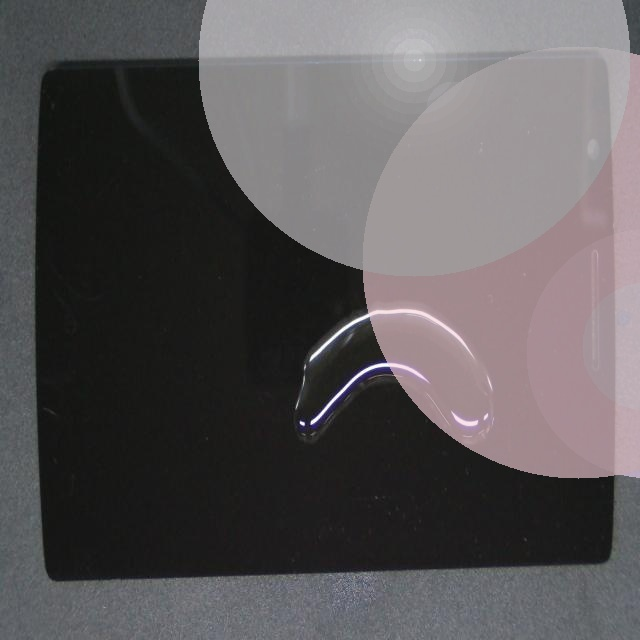oil: (191, 161, 640, 601)
